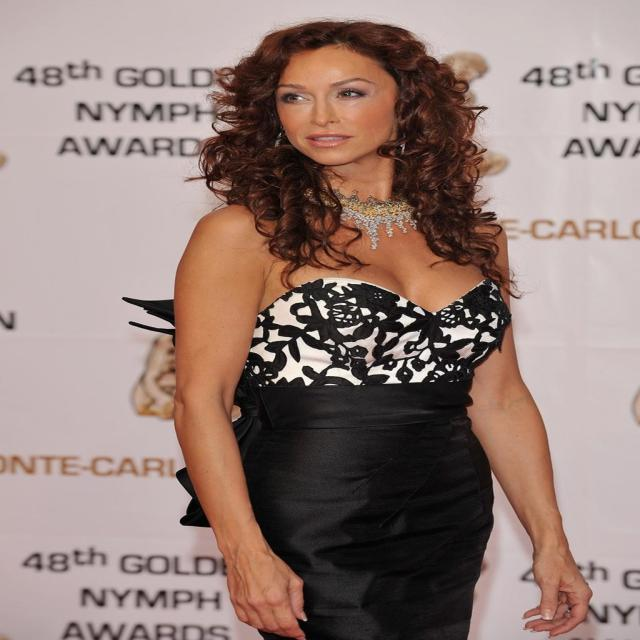Face: (247, 37, 432, 169)
